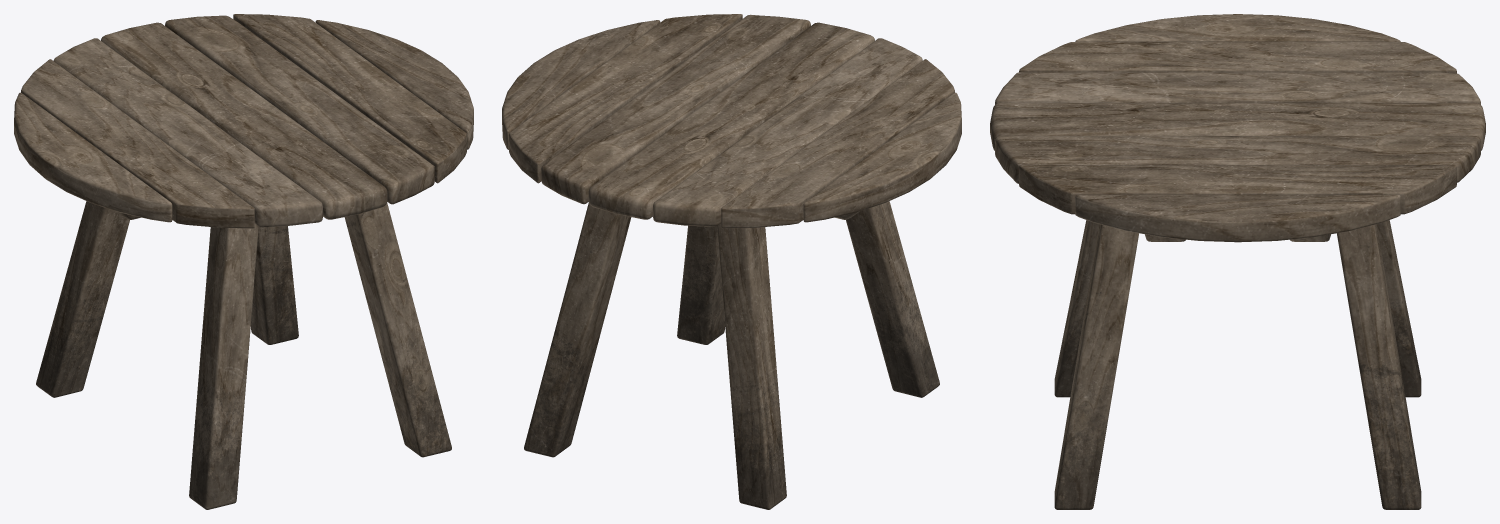
File: round_table.glb
The picture shows the model from 3 angles, left to right: view 1: azimuth 30°, elevation 25°; view 2: azimuth 150°, elevation 25°; view 3: azimuth 270°, elevation 25°; orthographic projection. The views are drawn at different scales.
Parts seen in each view (by area): view 1: RoundTableA; view 2: RoundTableA; view 3: RoundTableA.
Boxes of the visible parts, box(x1,y1,x2,y2) form: RoundTableA: box(14, 14, 473, 509); RoundTableA: box(502, 14, 961, 509); RoundTableA: box(990, 14, 1485, 509).
Bounding box in the file's own units: 99.51 × 73.53 × 100.
2 materials, 2 textured.
